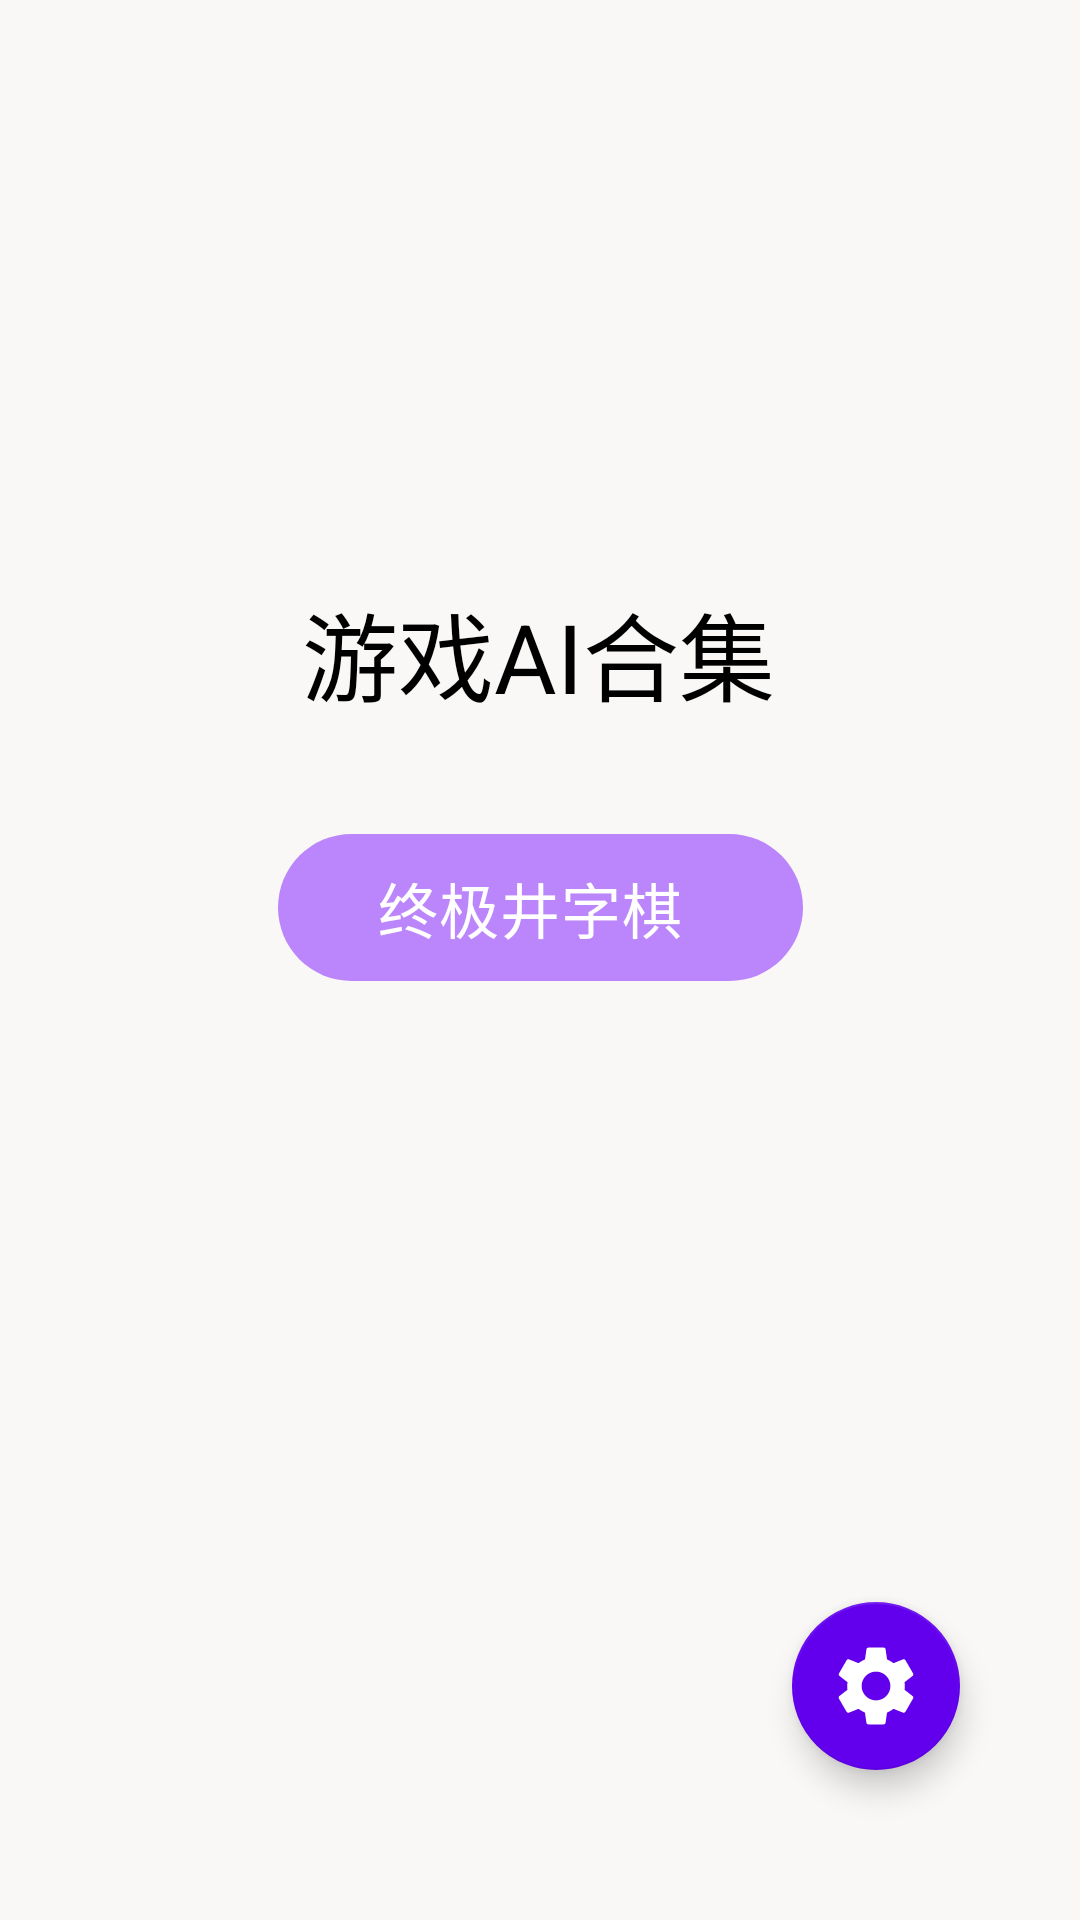

Icons on this 1080 x 1920 Android screen, each with the point to tap as [x,y]:
settings: [876,1686]
